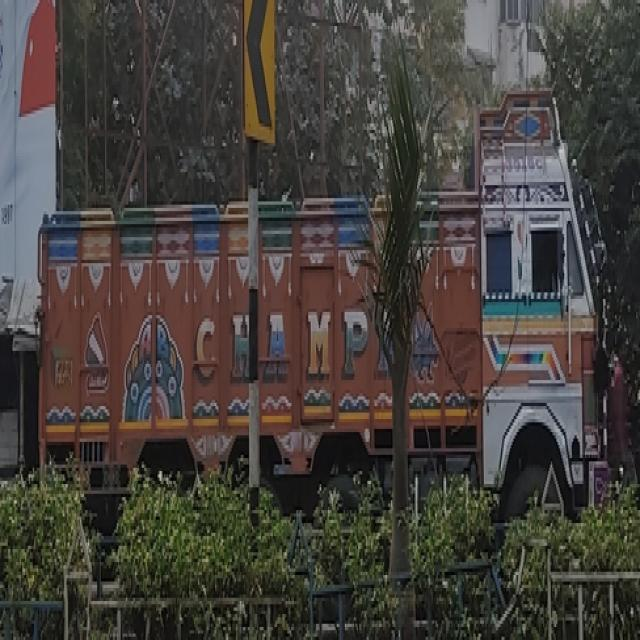truck: (36, 88, 608, 575)
